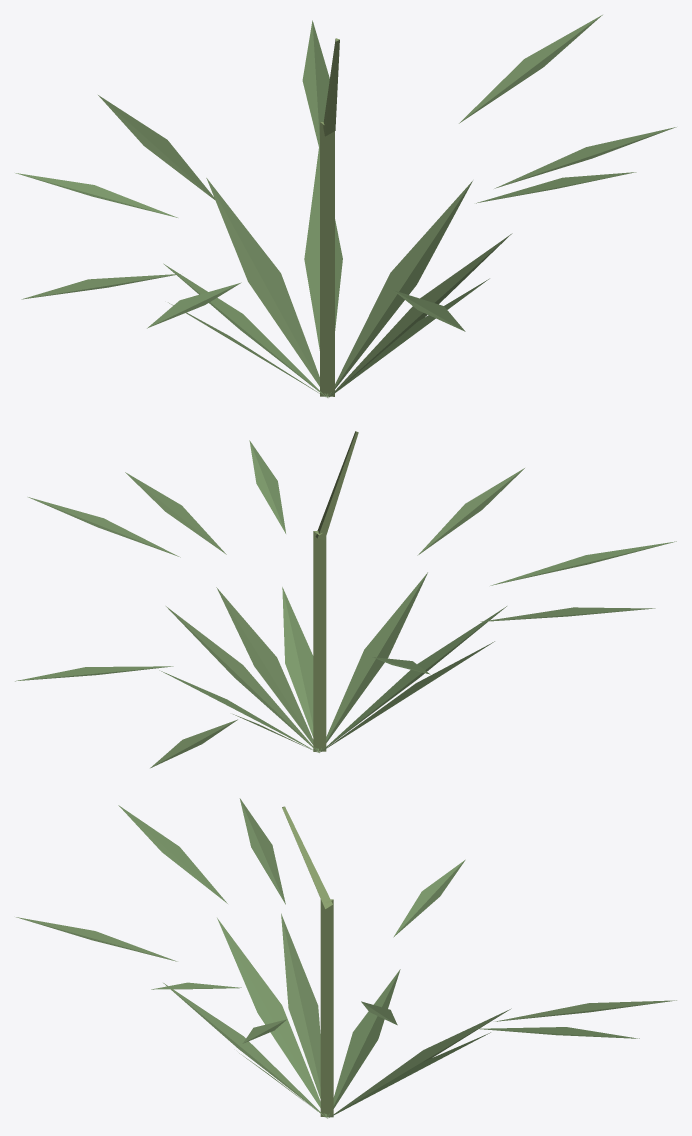
The model's file is hua.lan@subadult__summer.glb.
3 renders of one model, top to bottom at view 1: azimuth 30°, elevation 25°; view 2: azimuth 150°, elevation 25°; view 3: azimuth 270°, elevation 25°, orthographic. The views are drawn at different scales.
Visible parts, largest first — view 1: hua.lan@subadult__summer; view 2: hua.lan@subadult__summer; view 3: hua.lan@subadult__summer.
Part boxes in pixels (box(x1,y1,x2,y2)): hua.lan@subadult__summer: box(15, 15, 676, 397); hua.lan@subadult__summer: box(15, 431, 676, 768); hua.lan@subadult__summer: box(16, 798, 676, 1118).
Size of the model in its own units: 0.7407 by 0.3985 by 0.7861.
